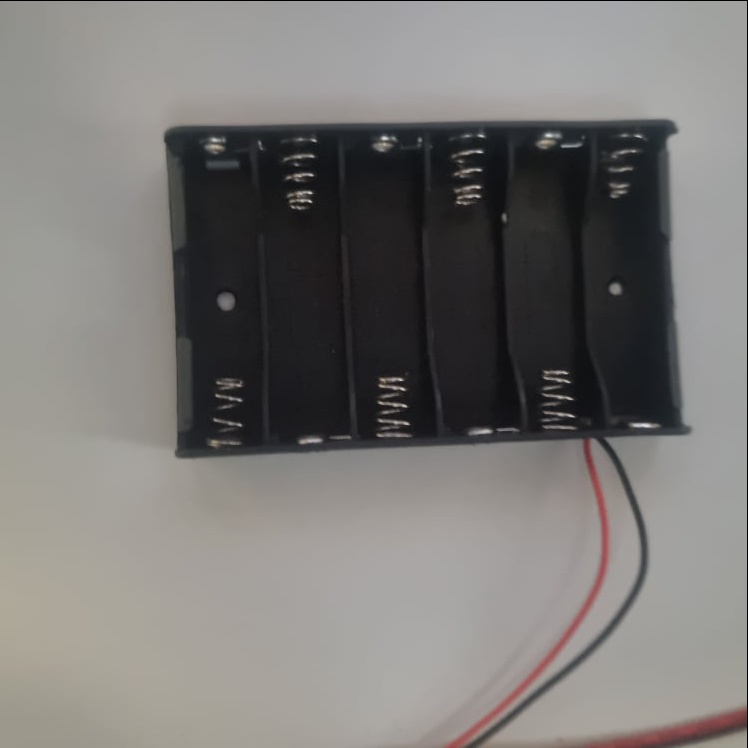BATTERY BOX: (164, 120, 681, 457)
